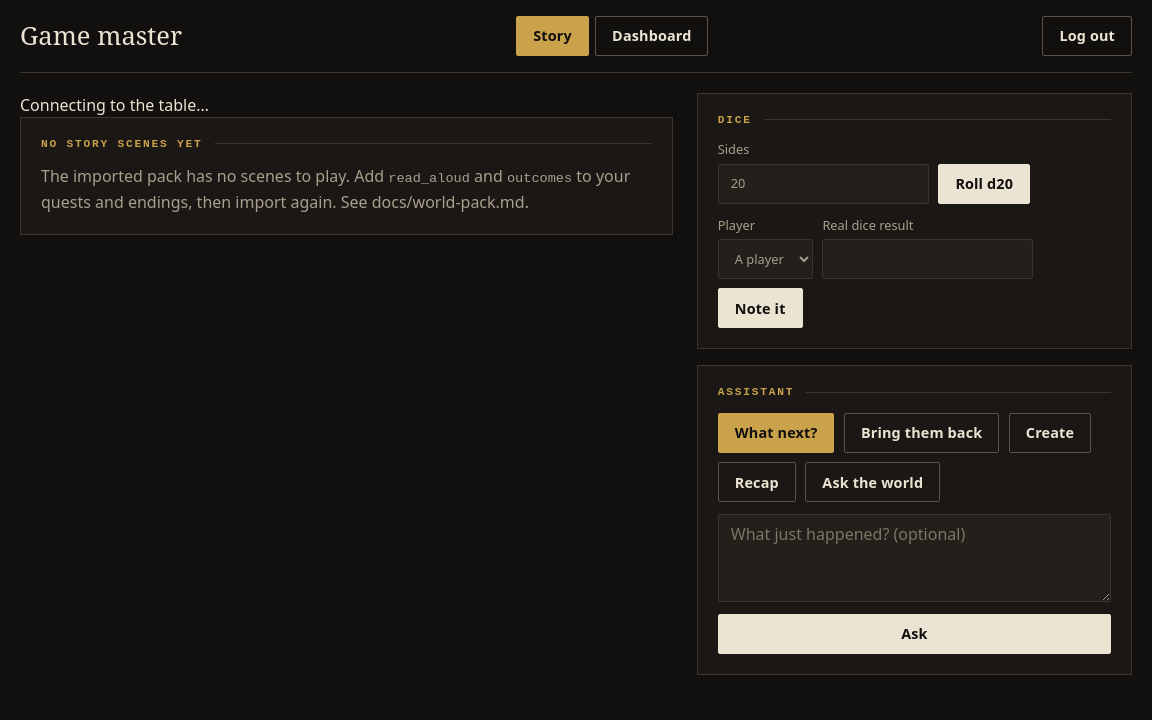
Test: MasterApp › keeps the tablet, characters, plot and log on the dashboard
This screenshot has width=1152, height=720.
Click the button with test id "tab-dashboard" at (652, 36), box [595,16,708,56]
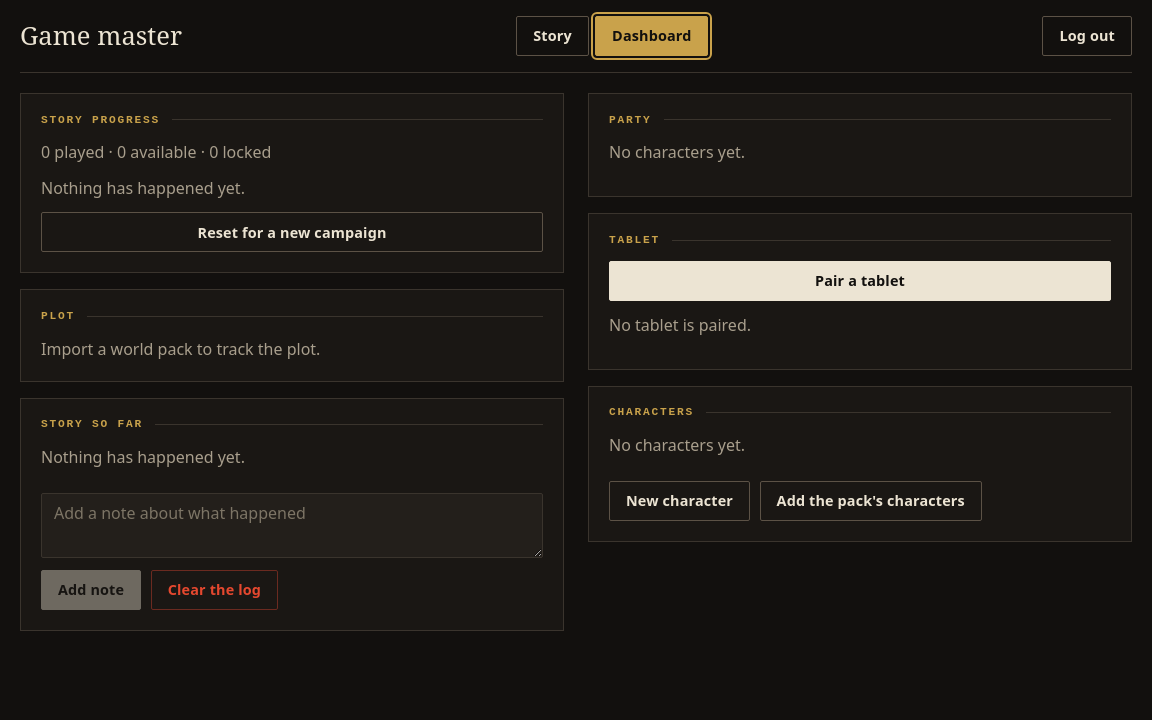
Now the button with test id "pairing-create" is shown, box [609,261,1111,301]
Now the button with test id "character-new" is shown, box [609,481,750,521]
Now the text with test id "party-empty" is shown, box [609,141,745,163]
